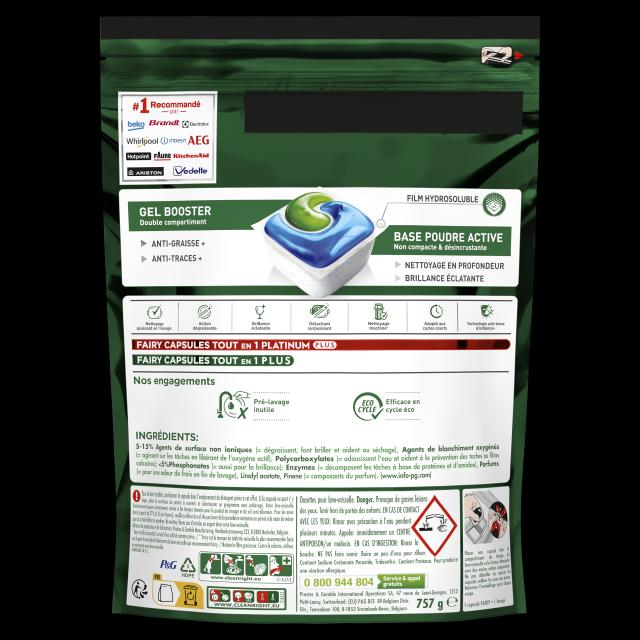GHS_Symbol_CORROSION: (412, 494, 458, 556)
